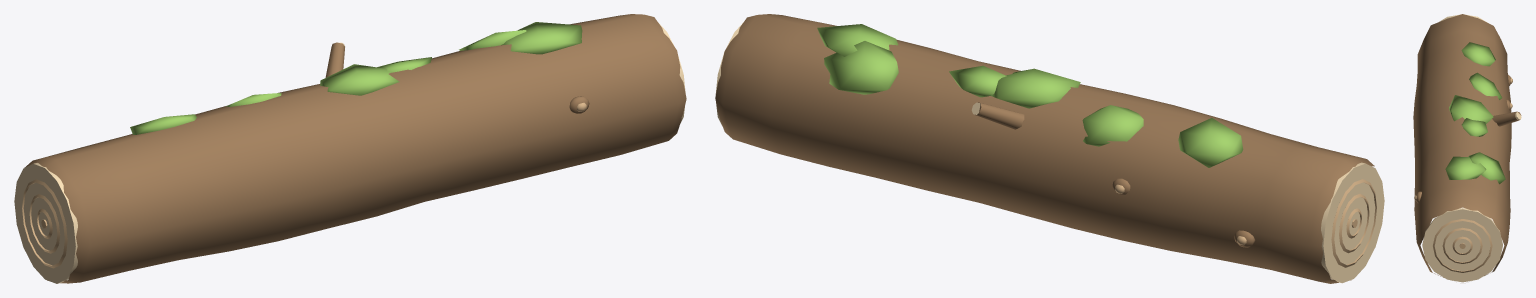
The model's file is log_short.glb.
The picture shows the model from 3 angles, left to right: view 1: azimuth 30°, elevation 25°; view 2: azimuth 150°, elevation 25°; view 3: azimuth 270°, elevation 25°; orthographic projection. The views are drawn at different scales.
Parts seen in each view (by area): view 1: log_short; view 2: log_short; view 3: log_short.
Boxes of the visible parts, x1,y1,x2,y2 form: log_short: [14, 14, 686, 283]; log_short: [715, 14, 1384, 283]; log_short: [1413, 14, 1521, 282].
Bounding box in the file's own units: 3.01 × 0.6516 × 0.7003.
